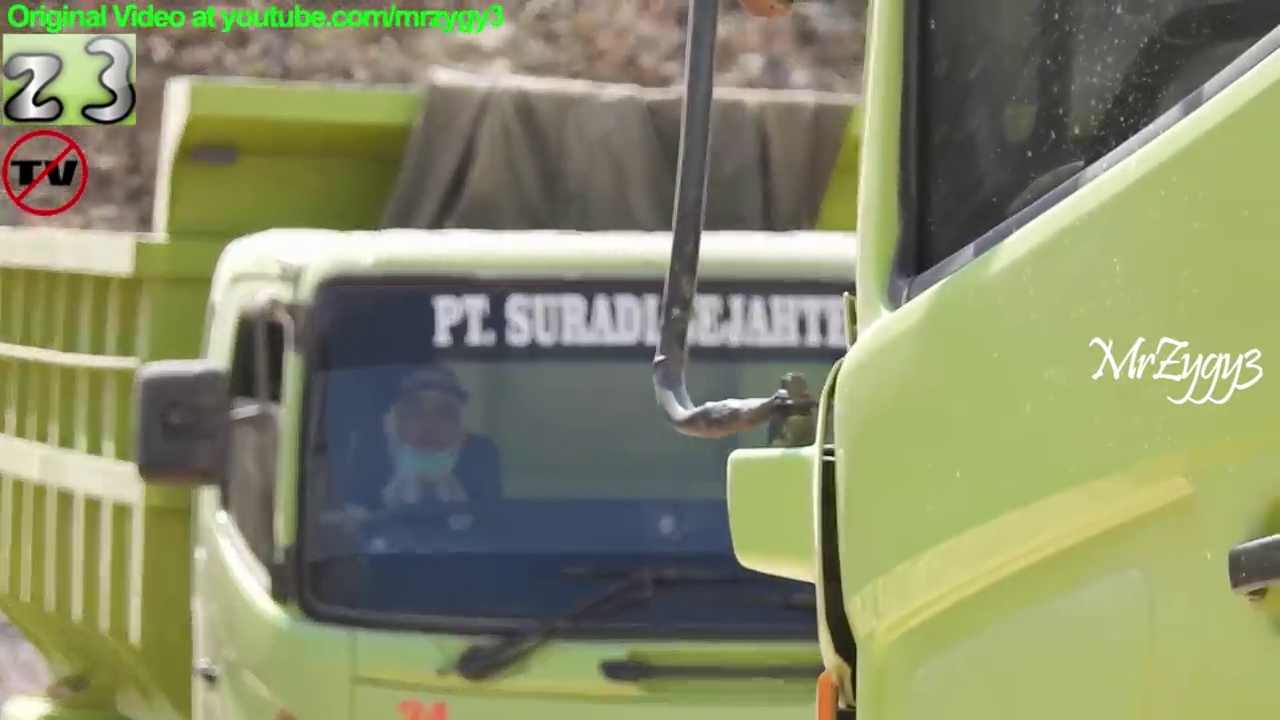truck: (1, 57, 1227, 720), (615, 1, 1280, 720)
